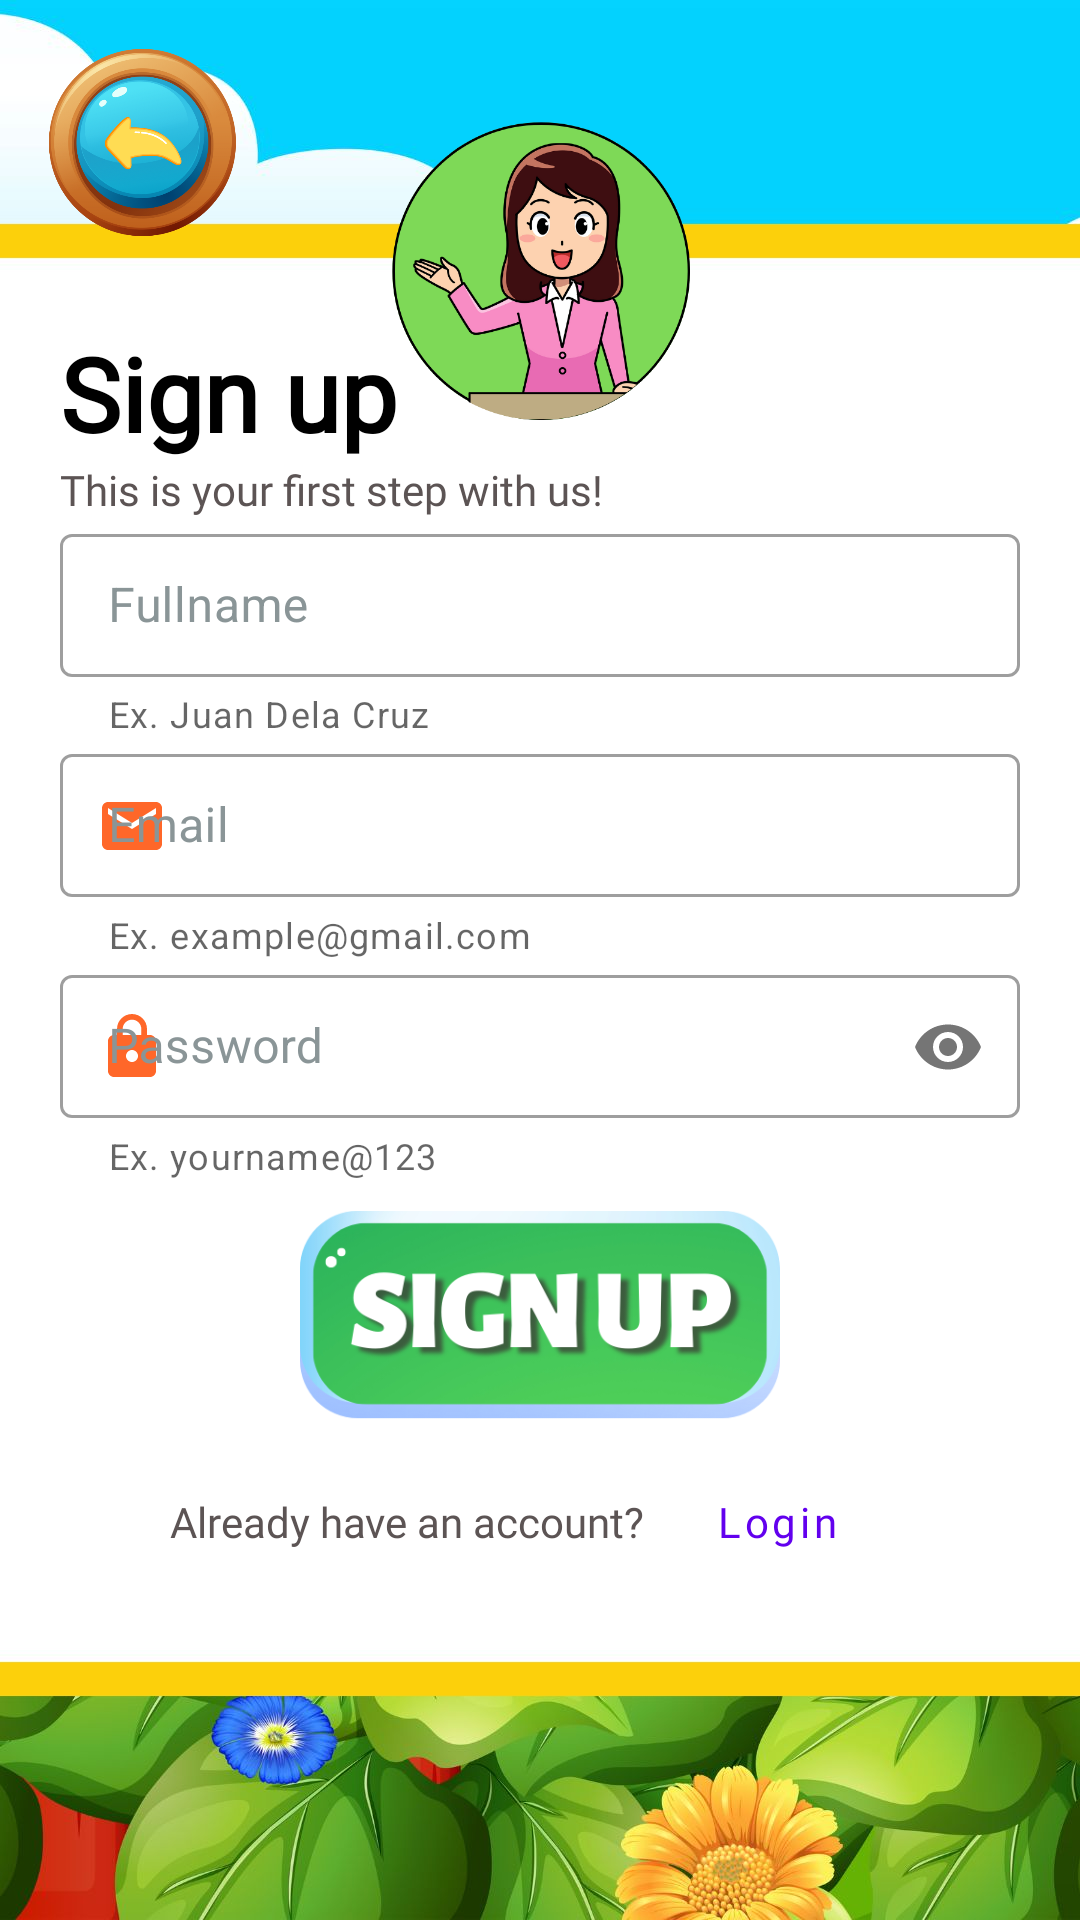

Screen size 1080x1920. Icon name, then its center in pixels as [x,y]:
back: [142,142]
teacher: [540,270]
